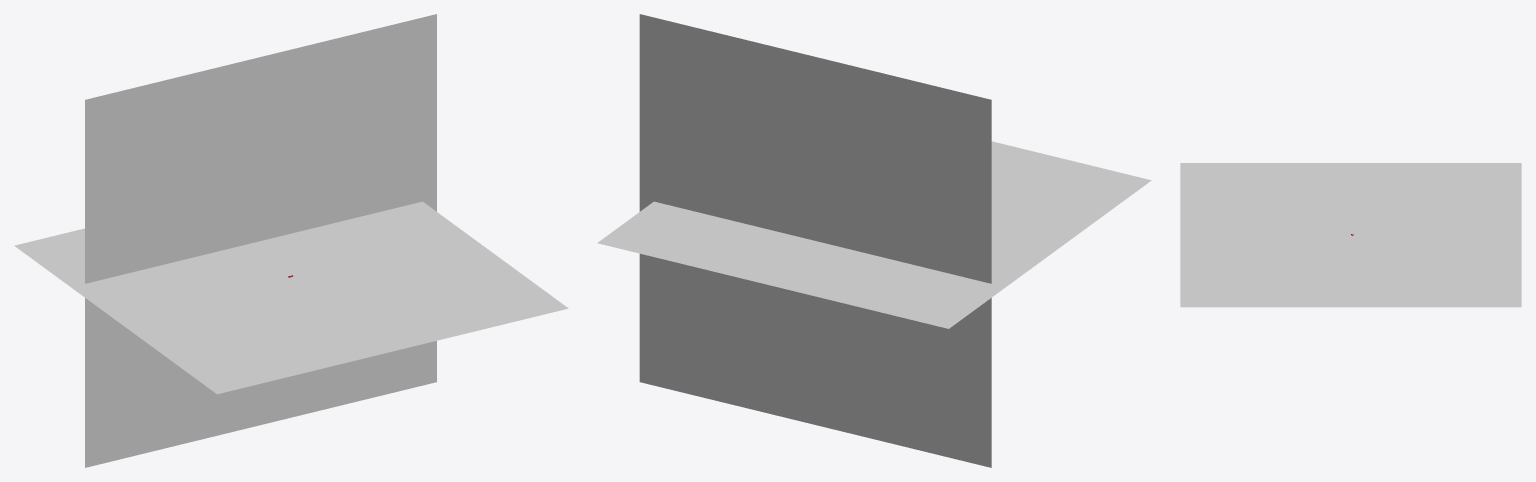
Rendered from mayaLT_test_01.fbx.
The picture shows the model from 3 angles, left to right: view 1: azimuth 30°, elevation 25°; view 2: azimuth 150°, elevation 25°; view 3: azimuth 270°, elevation 25°; orthographic projection. The views are drawn at different scales.
Parts seen in each view (by area): view 1: pPlane2, pPlane1; view 2: pPlane2, pPlane1; view 3: pPlane1.
Part boxes in pixels (box(x1,y1,x2,y2)): pPlane2: box(85, 14, 436, 467); pPlane1: box(14, 201, 568, 394); pPlane2: box(639, 14, 991, 467); pPlane1: box(597, 141, 1151, 328); pPlane1: box(1180, 163, 1521, 307).
Size of the model in its own units: 214 by 206 by 206.
